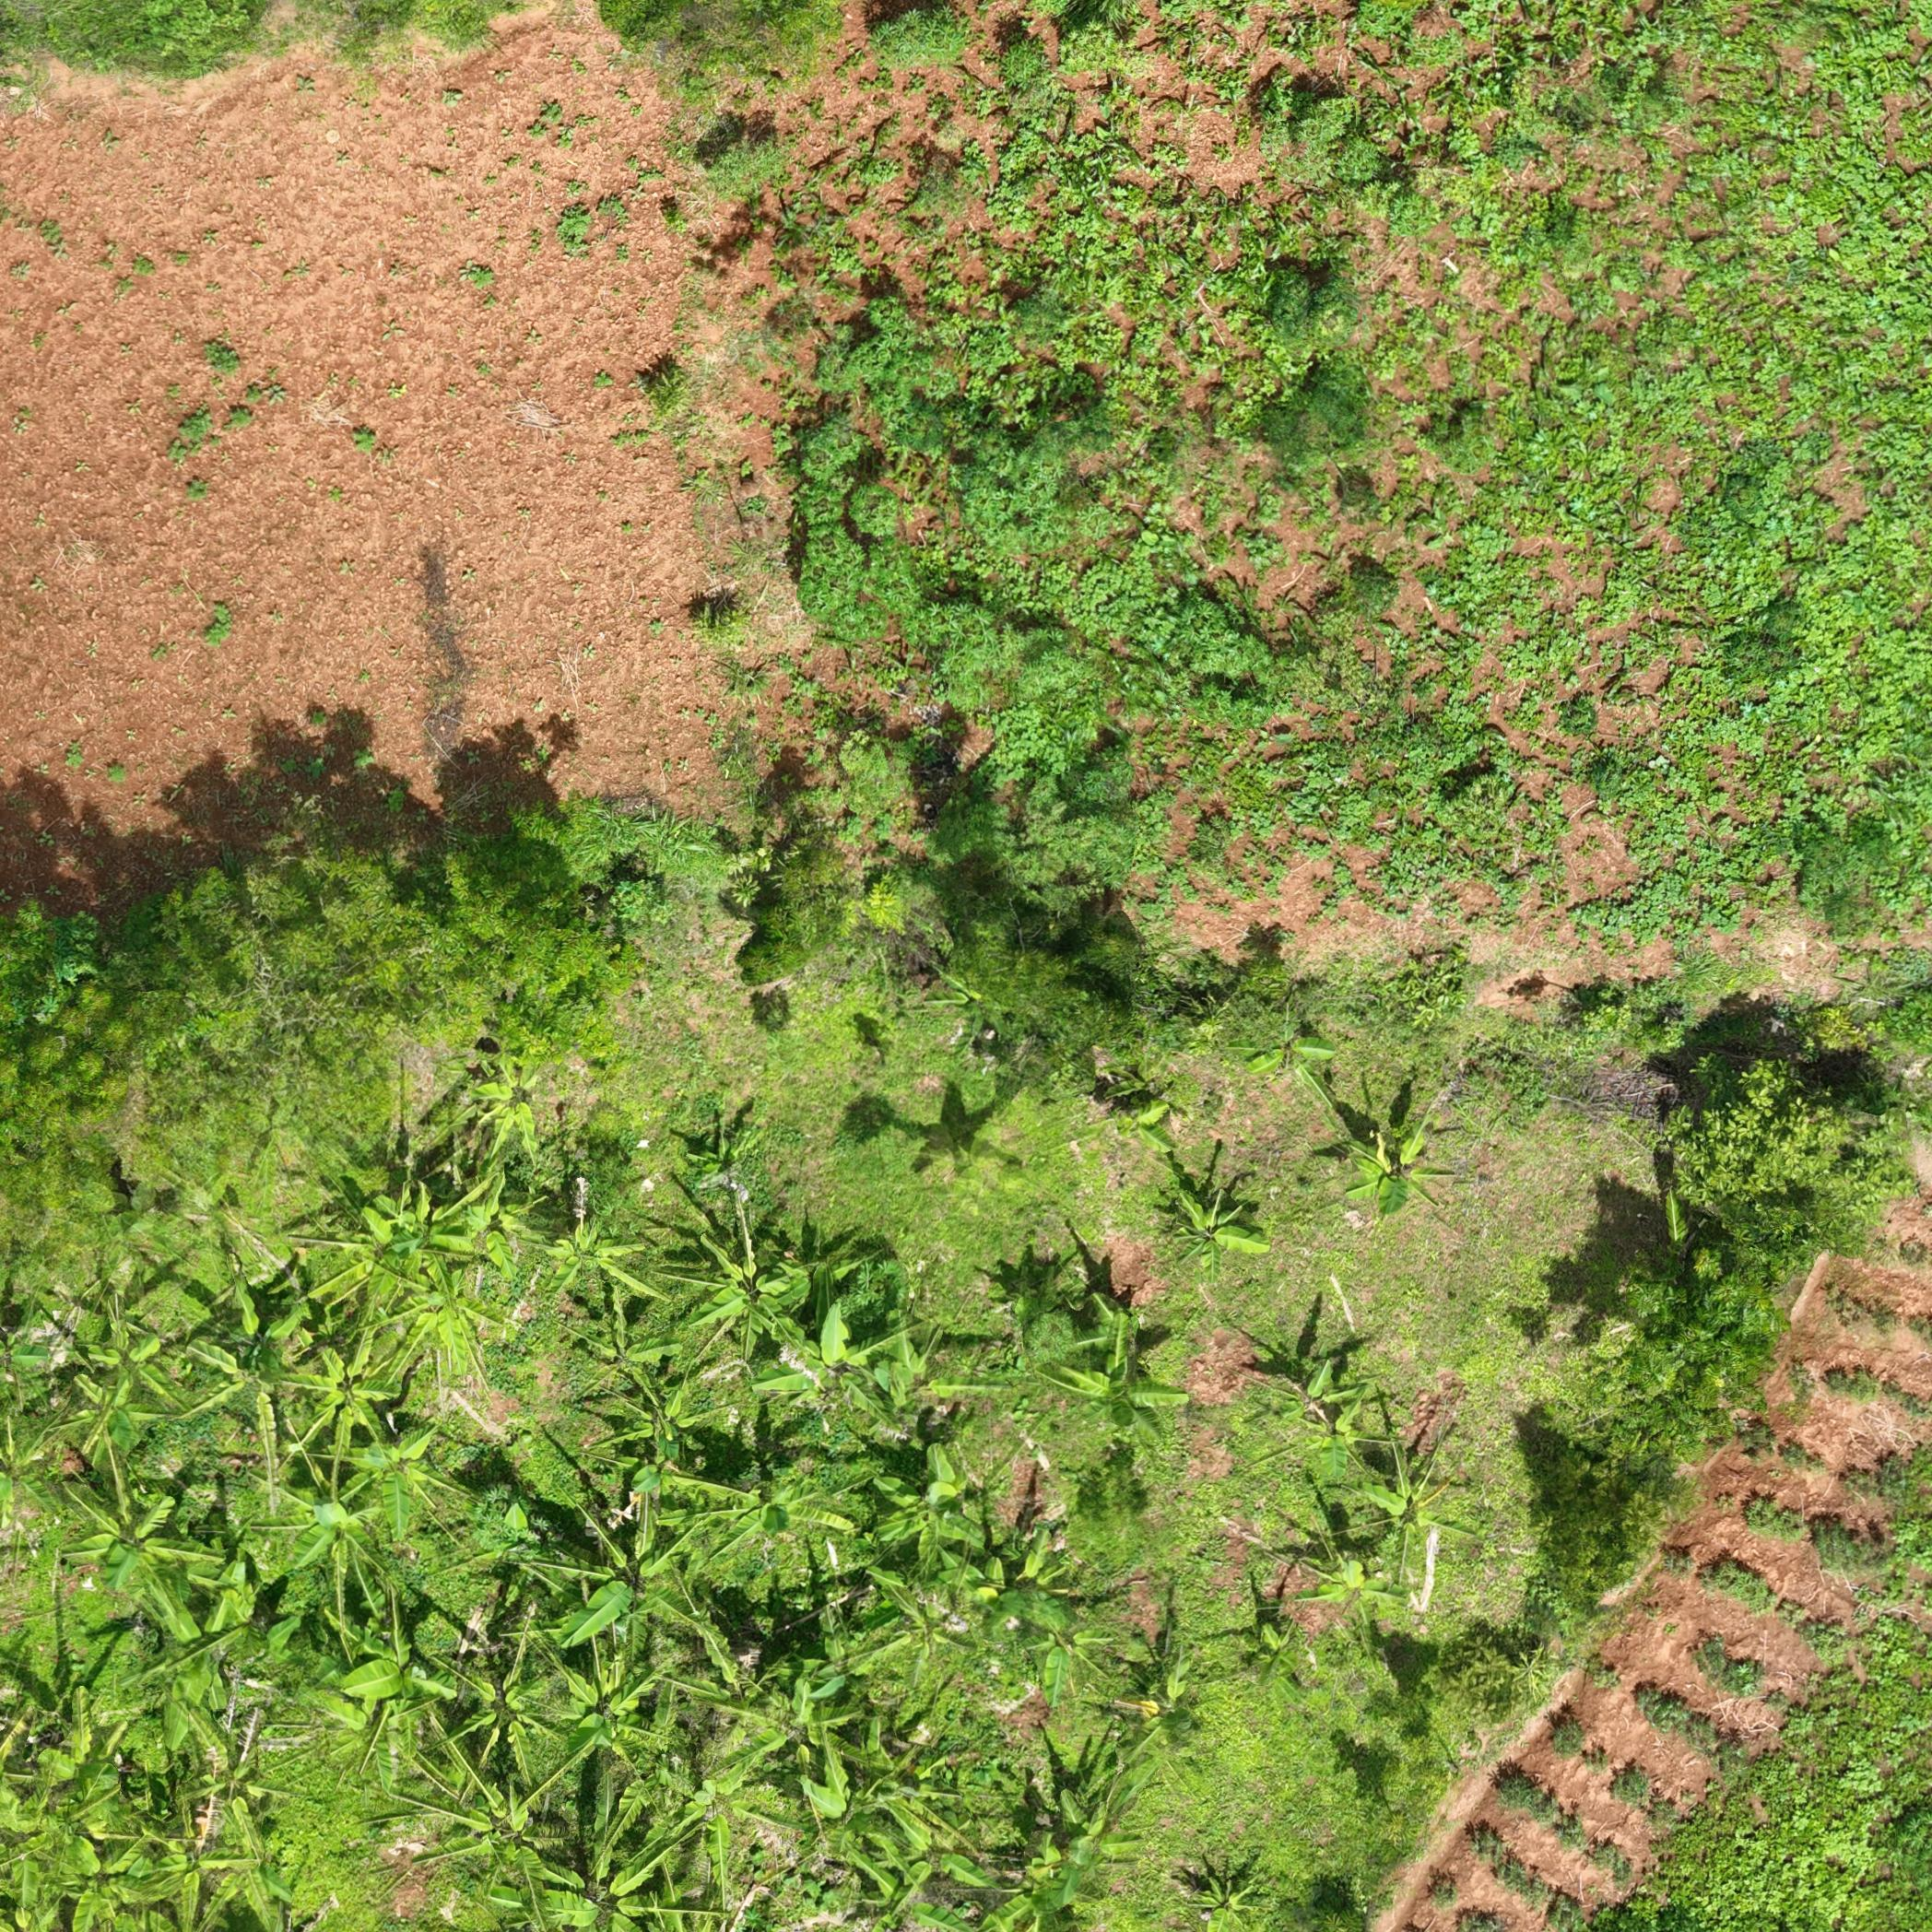Banana: (368, 1753, 587, 1890), (51, 1474, 234, 1629), (1235, 1391, 1474, 1486), (1208, 996, 1369, 1138), (180, 1309, 326, 1463), (283, 1161, 432, 1300), (318, 1591, 478, 1711), (506, 1610, 688, 1711), (1065, 1042, 1196, 1180), (1145, 1157, 1283, 1286), (678, 1226, 800, 1357), (901, 959, 1033, 1079), (85, 1292, 203, 1426), (1215, 1343, 1385, 1435), (262, 1359, 432, 1451), (1221, 1591, 1343, 1714), (863, 1460, 1007, 1562), (577, 1297, 672, 1396), (1095, 1638, 1215, 1714), (1175, 1858, 1277, 1923), (1654, 1180, 1713, 1279)
